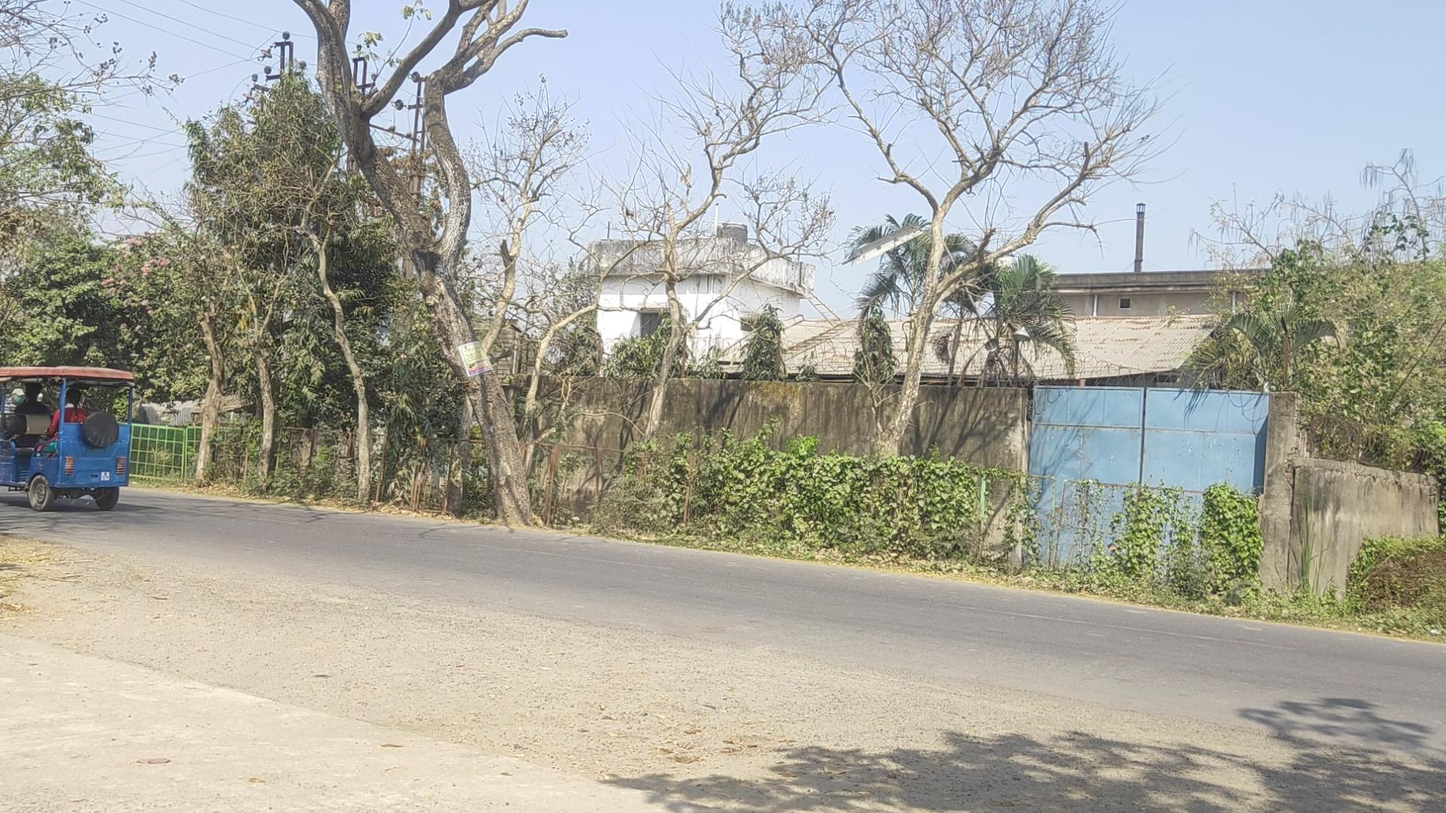Auto: (1, 365, 134, 513)
